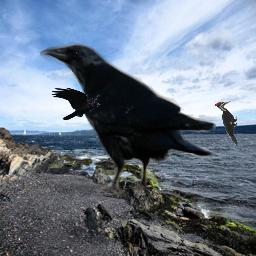Crow: (40, 42, 216, 202), (51, 87, 101, 120)
Woodpecker: (213, 101, 237, 148)
